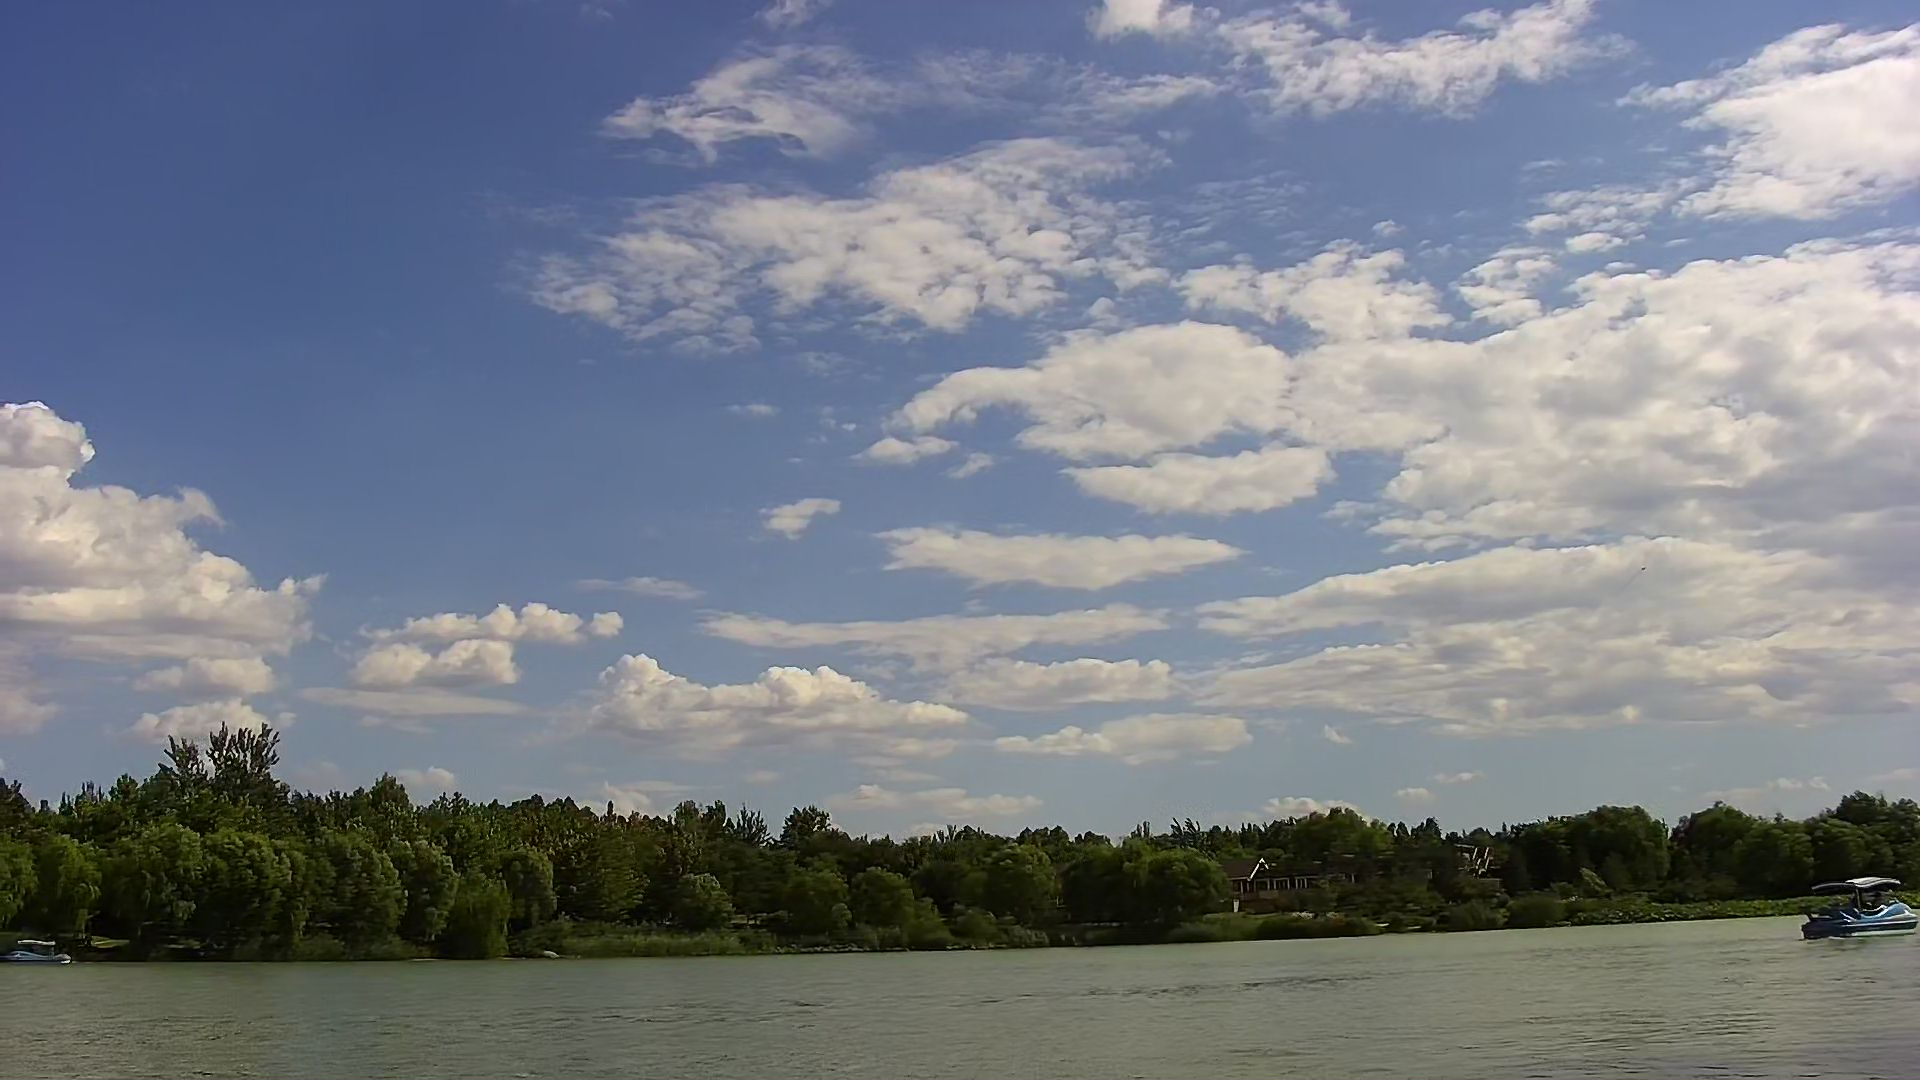boat: (1799, 873, 1920, 942), (1, 935, 76, 973)
